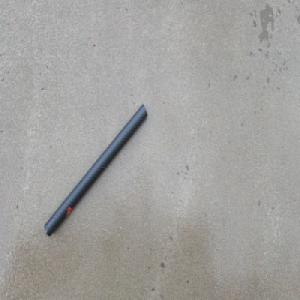LuggagePart: (43, 102, 148, 237)
